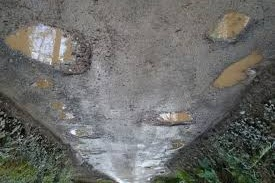pothole: (7, 26, 107, 78), (211, 49, 266, 93), (209, 11, 253, 47), (149, 109, 197, 126), (26, 78, 62, 91), (166, 136, 186, 151), (67, 126, 100, 135), (57, 110, 79, 121), (49, 100, 64, 111), (81, 147, 104, 154)
